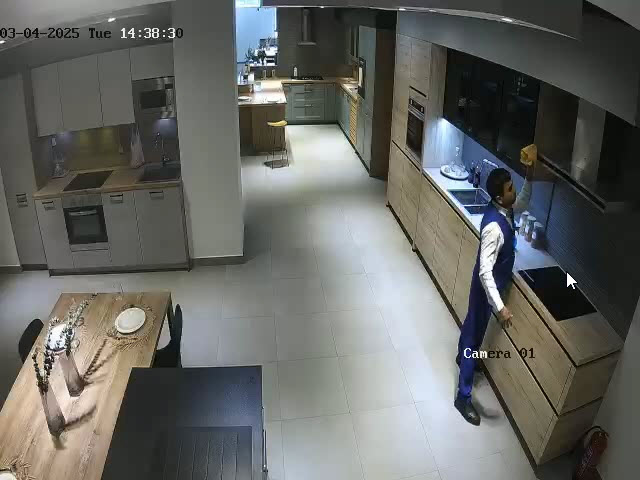employee: (454, 165, 524, 427)
